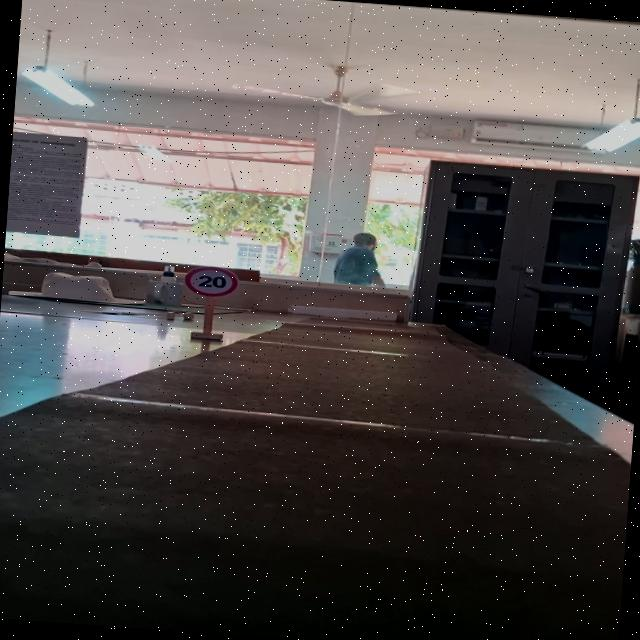Speed20: (179, 261, 243, 299)
